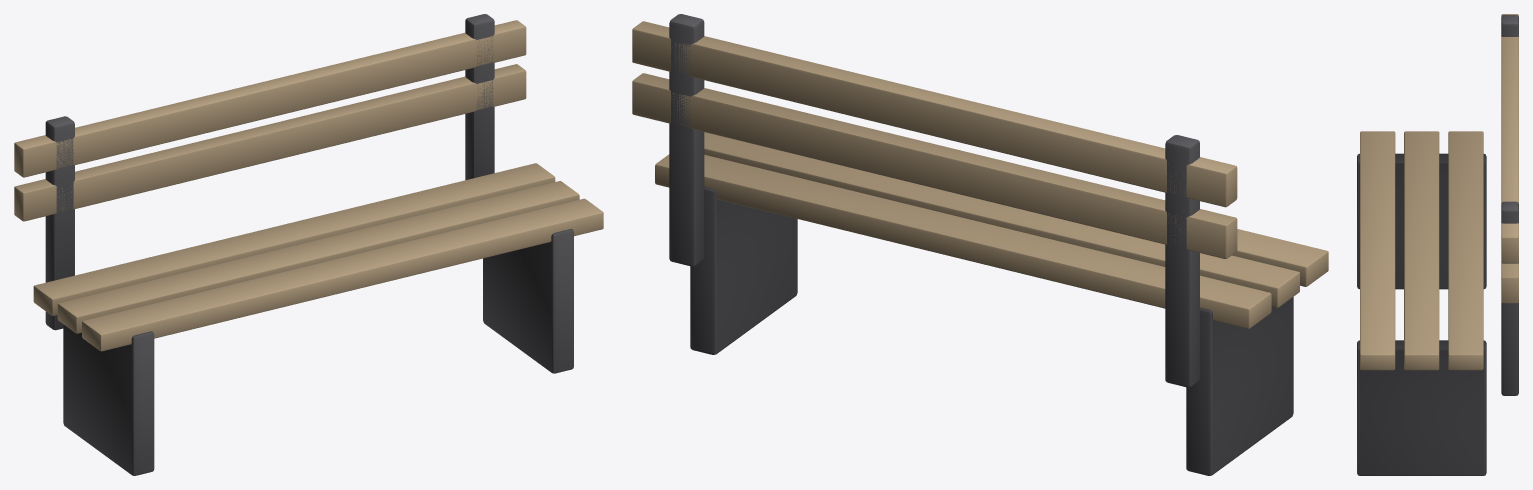
The model's file is bench.glb.
3 views of the same model, side by side, from view 1: azimuth 30°, elevation 25°; view 2: azimuth 150°, elevation 25°; view 3: azimuth 270°, elevation 25° (orthographic). The views are drawn at different scales.
Visible parts, largest first — view 1: boat_plank, boat_ironb; view 2: boat_plank, boat_ironb; view 3: boat_plank, boat_ironb.
Part boxes in pixels (left/top/right/bottom): boat_plank: left=14, top=20, right=603, bottom=351; boat_ironb: left=45, top=14, right=573, bottom=475; boat_plank: left=632, top=21, right=1328, bottom=328; boat_ironb: left=669, top=14, right=1293, bottom=475; boat_plank: left=1360, top=14, right=1518, bottom=370; boat_ironb: left=1357, top=15, right=1518, bottom=475.
Bounding box in the file's own units: 1.8 × 1 × 0.55.
